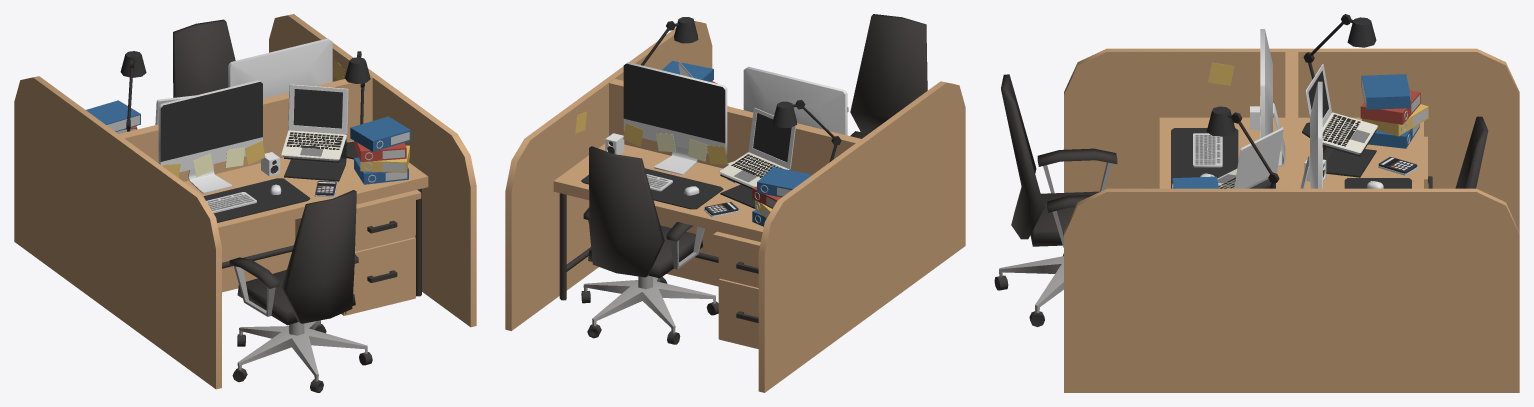
Rendered from Group_desk_06.FBX.
3 views of the same model, side by side, from view 1: azimuth 30°, elevation 25°; view 2: azimuth 150°, elevation 25°; view 3: azimuth 270°, elevation 25° (orthographic). The views are drawn at different scales.
Visible parts, largest first — view 1: patition (×2), chair_01, monitor_01, desk, notebook_01 (×2), chair_02, monitor_02, drawer02, file books_01, drawer01, desk pad_01, notebook_04 (+4 smaller); view 2: patition (×2), chair_02, monitor_02, chair_01, desk, monitor_01, drawer02, notebook01, file books_02, desk pad_02, drawer01, notebook02 (+4 smaller); view 3: patition (×2), chair_01, desk (×2), file books_02, desk pad_01, notebook_01, notebook02, monitor_01, monitor_02, desk stand01 (×2), chair_02, notebook_02 (+7 smaller).
Boxes of the visible parts, bbox=[...] form: patition (×2): bbox=[14, 14, 476, 389]; chair_01: bbox=[229, 190, 372, 392]; monitor_01: bbox=[158, 80, 262, 193]; desk: bbox=[184, 140, 428, 296]; notebook_01 (×2): bbox=[284, 84, 348, 181]; chair_02: bbox=[173, 19, 235, 97]; monitor_02: bbox=[228, 38, 332, 98]; drawer02: bbox=[345, 237, 415, 314]; file books_01: bbox=[350, 116, 410, 184]; drawer01: bbox=[355, 200, 415, 249]; desk pad_01: bbox=[203, 178, 310, 222]; notebook_04: bbox=[281, 130, 346, 161]; patition (×2): bbox=[505, 21, 965, 392]; chair_02: bbox=[581, 146, 718, 344]; monitor_02: bbox=[623, 62, 727, 174]; chair_01: bbox=[847, 14, 927, 138]; desk: bbox=[553, 143, 763, 300]; monitor_01: bbox=[743, 66, 847, 135]; drawer02: bbox=[718, 278, 758, 348]; notebook01: bbox=[748, 107, 795, 169]; file books_02: bbox=[752, 167, 812, 226]; desk pad_02: bbox=[581, 168, 723, 209]; drawer01: bbox=[718, 241, 758, 285]; notebook02: bbox=[719, 152, 789, 187]; patition (×2): bbox=[1064, 48, 1519, 392]; chair_01: bbox=[994, 74, 1117, 327]; desk (×2): bbox=[1159, 117, 1423, 188]; file books_02: bbox=[1360, 74, 1428, 148]; desk pad_01: bbox=[1171, 128, 1238, 188]; notebook_01: bbox=[1234, 127, 1283, 188]; notebook02: bbox=[1322, 112, 1377, 154]; monitor_01: bbox=[1260, 29, 1285, 166]; monitor_02: bbox=[1300, 81, 1322, 188]; desk stand01 (×2): bbox=[1206, 17, 1376, 136]; chair_02: bbox=[1455, 116, 1488, 188]; notebook_02: bbox=[1322, 129, 1376, 177].
Bounding box in the file's own units: 173 × 144 × 267.
1 material, 1 textured.
